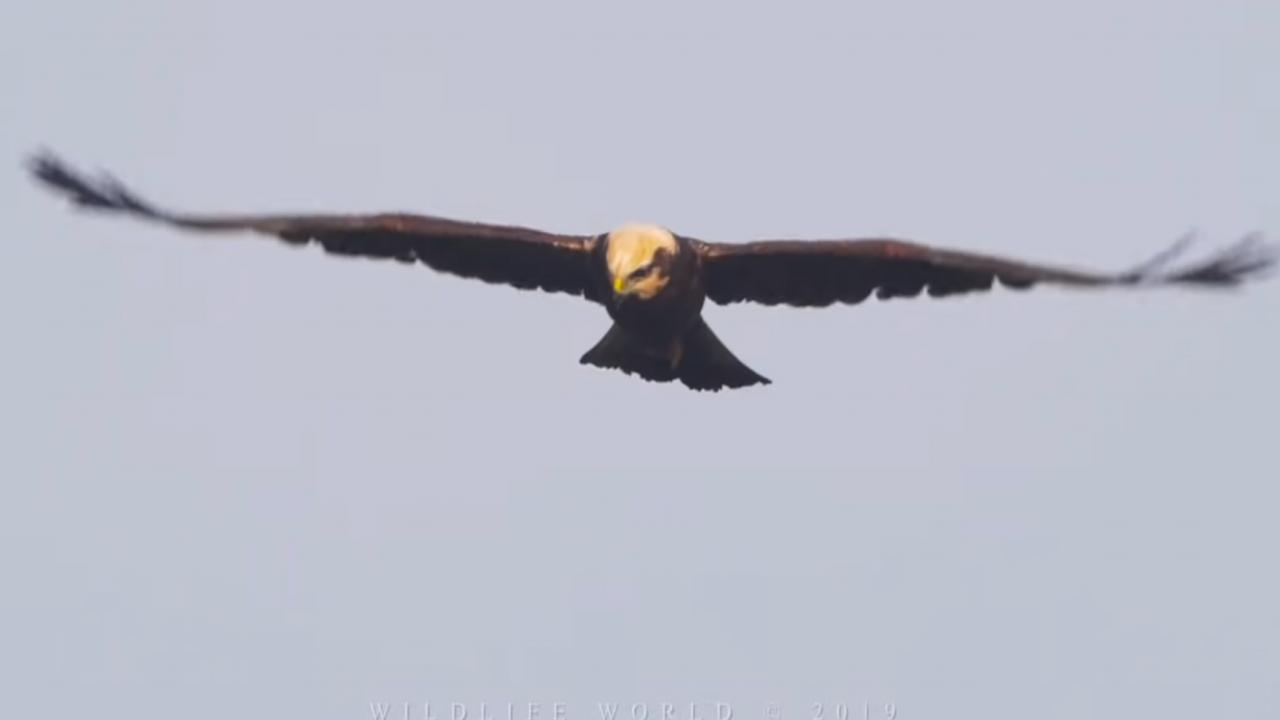Bird: (19, 140, 1280, 407)
